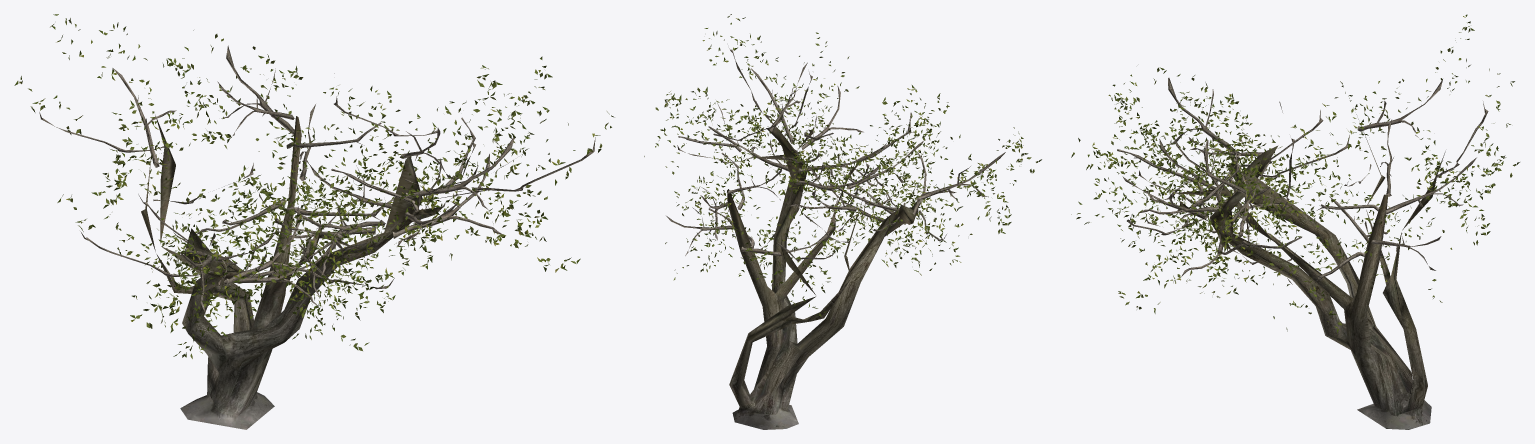
File: island_tree_02.glb
3 views of the same model, side by side, from view 1: azimuth 30°, elevation 25°; view 2: azimuth 150°, elevation 25°; view 3: azimuth 270°, elevation 25° (orthographic). The views are drawn at different scales.
Visible parts, largest first — view 1: island_tree_02_LOD0; view 2: island_tree_02_LOD0; view 3: island_tree_02_LOD0.
Part boxes in pixels (x1,y1,x2,y2): island_tree_02_LOD0: [14, 14, 614, 429]; island_tree_02_LOD0: [644, 14, 1041, 429]; island_tree_02_LOD0: [1071, 14, 1519, 429].
Bounding box in the file's own units: 3.77 × 3.38 × 4.03.
3 materials, 3 textured.
